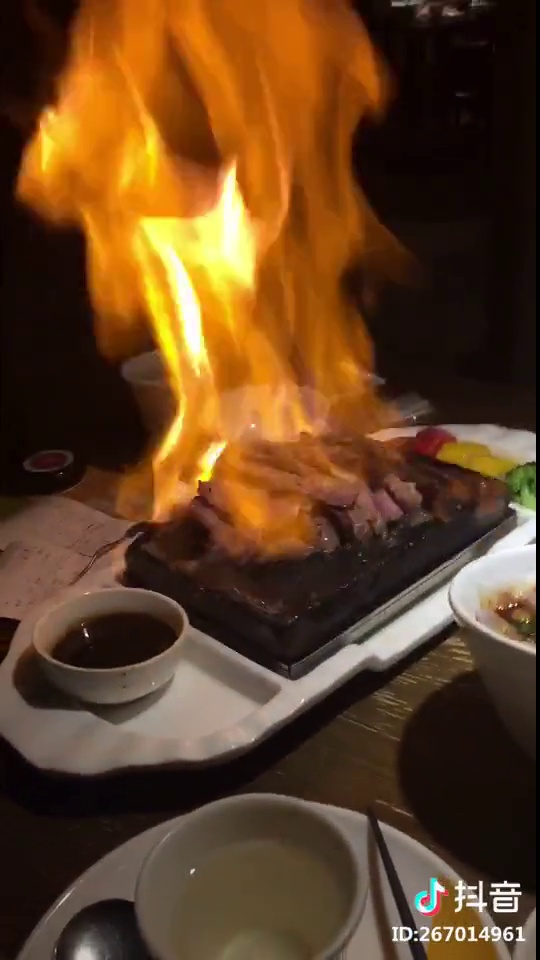fire: (33, 2, 389, 427)
